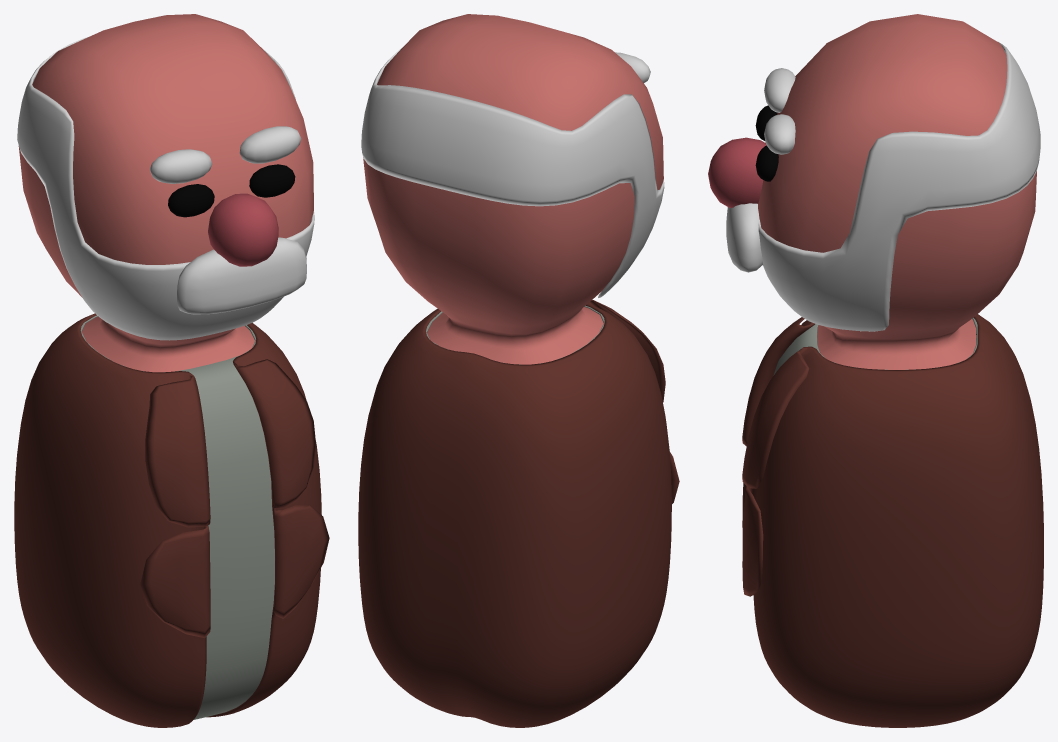
The model's file is granddaddy.fbx.
3 renders of one model, left to right at view 1: azimuth 30°, elevation 25°; view 2: azimuth 150°, elevation 25°; view 3: azimuth 270°, elevation 25°, orthographic.
Parts seen in each view (by area): view 1: Cube; view 2: Cube; view 3: Cube.
Boxes of the visible parts, box(x1,y1,x2,y2) form: Cube: box(14, 14, 329, 727); Cube: box(358, 14, 679, 727); Cube: box(708, 14, 1043, 727).
Size of the model in its own units: 195 by 508 by 229.
